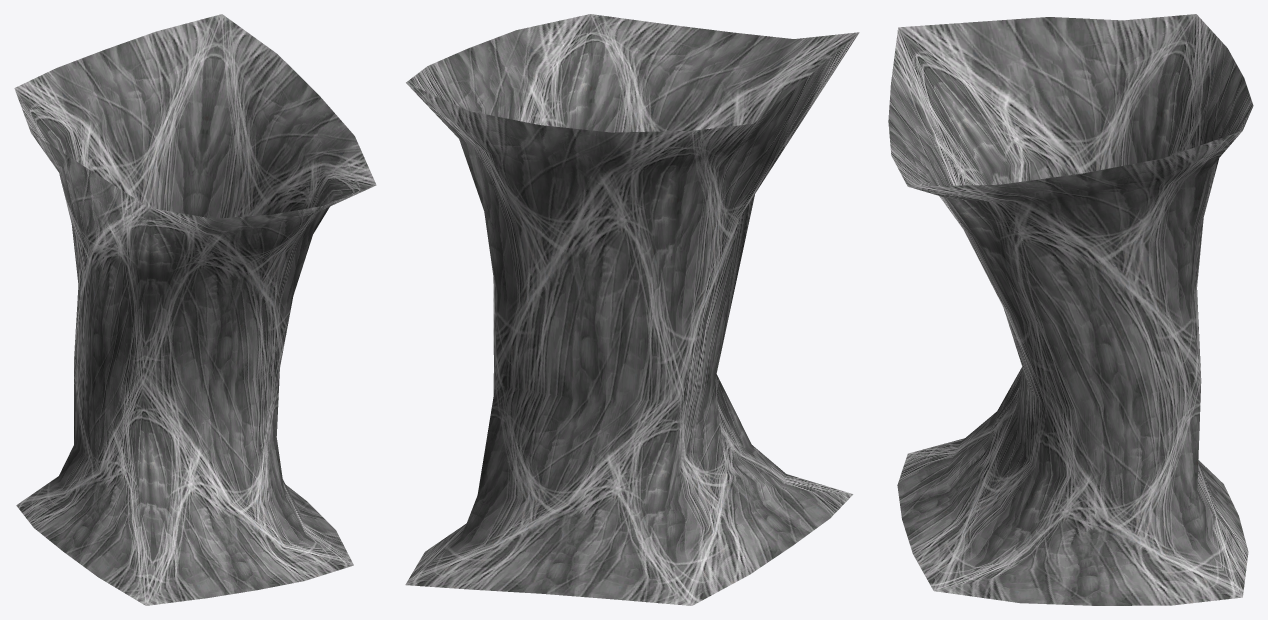
The model's file is SWORDLIGHT20_PS-AREA01_23.fbx.
3 views of the same model, side by side, from view 1: azimuth 30°, elevation 25°; view 2: azimuth 150°, elevation 25°; view 3: azimuth 270°, elevation 25° (orthographic). The views are drawn at different scales.
Visible parts, largest first — view 1: SWORDLIGHT20_PS-AREA01_23; view 2: SWORDLIGHT20_PS-AREA01_23; view 3: SWORDLIGHT20_PS-AREA01_23.
Part boxes in pixels (left/top/right/bottom): SWORDLIGHT20_PS-AREA01_23: left=14, top=14, right=376, bottom=605; SWORDLIGHT20_PS-AREA01_23: left=405, top=14, right=859, bottom=605; SWORDLIGHT20_PS-AREA01_23: left=888, top=14, right=1253, bottom=605.
Size of the model in its own units: 65263 by 101885 by 72054.
1 material, 1 textured.
